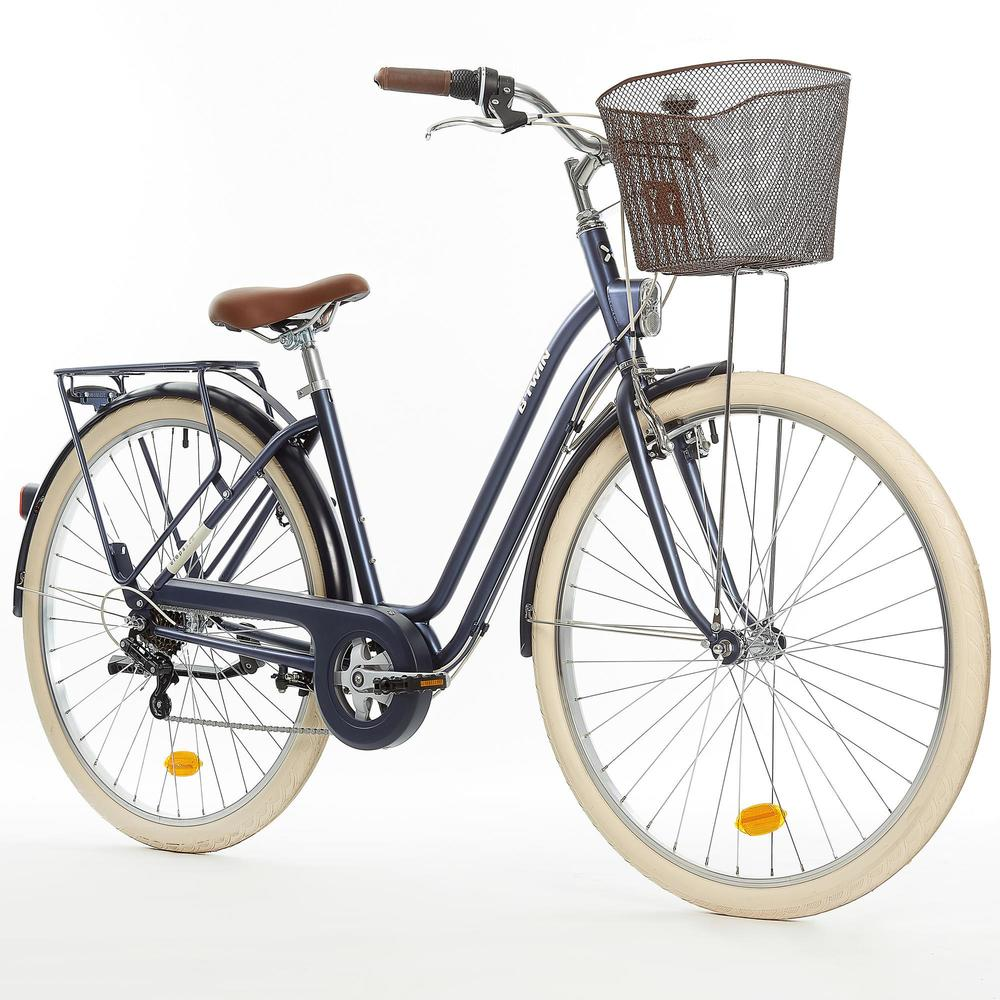UrbanBike: (21, 47, 988, 911)
